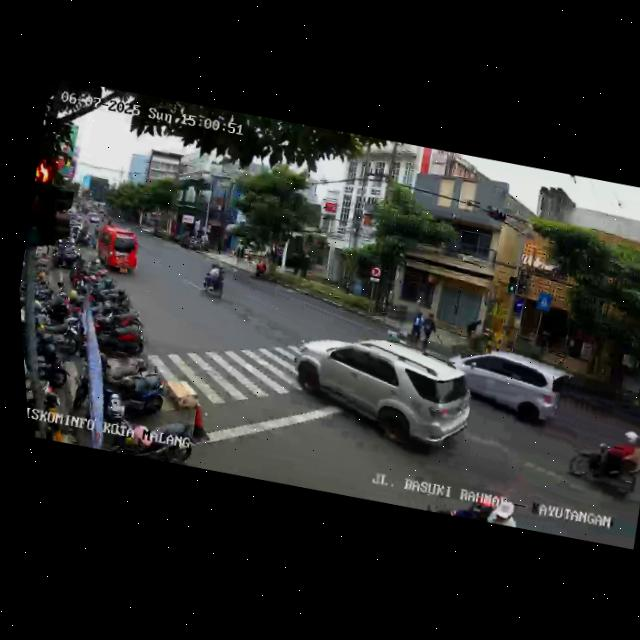car: (278, 319, 481, 466), (454, 340, 568, 434), (550, 365, 640, 429), (89, 222, 145, 278)
motorcycle: (562, 415, 640, 506), (197, 260, 230, 300)
person: (418, 311, 441, 354), (406, 309, 427, 348)
